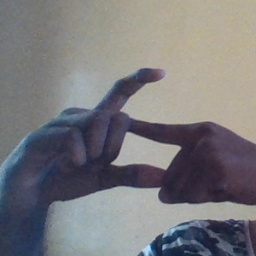E: (65, 55, 203, 197)
